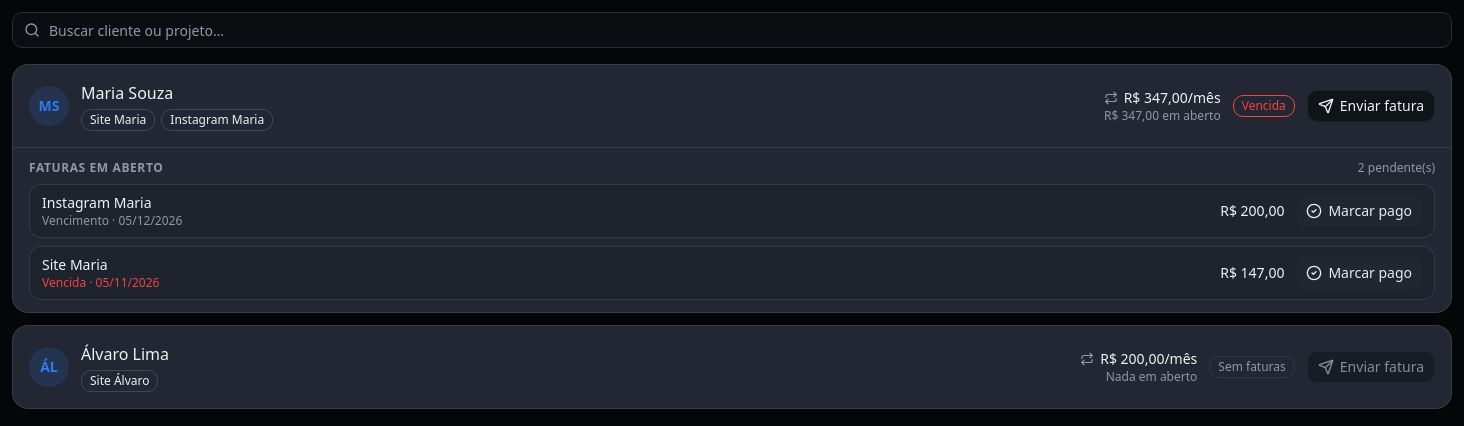
lista de clientes do Financeiro › busca por cliente ou projeto filtra a lista
Step 1. Type "alvaro" into the field with placeholder "Buscar cliente ou projeto…" → (732, 30), box [12, 12, 1452, 48]
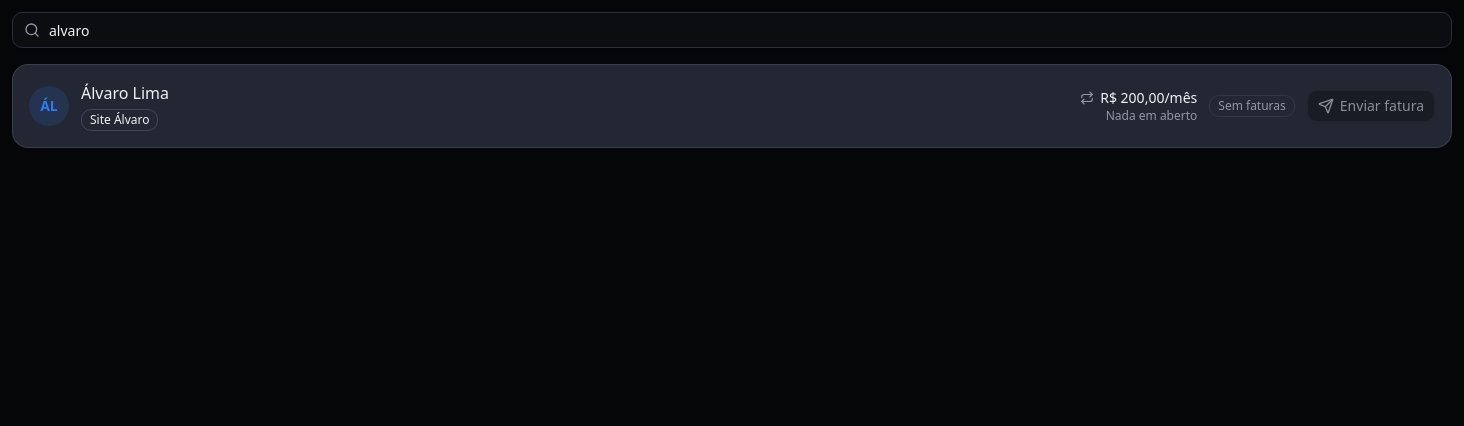
Expected: the button "Álvaro Lima" is shown, [81, 81, 169, 105]
Now the button "Maria Souza" is gone
Step 2. Replace the text in the field with placeholder "Buscar cliente ou projeto…" with "zzz" → (732, 30), box [12, 12, 1452, 48]
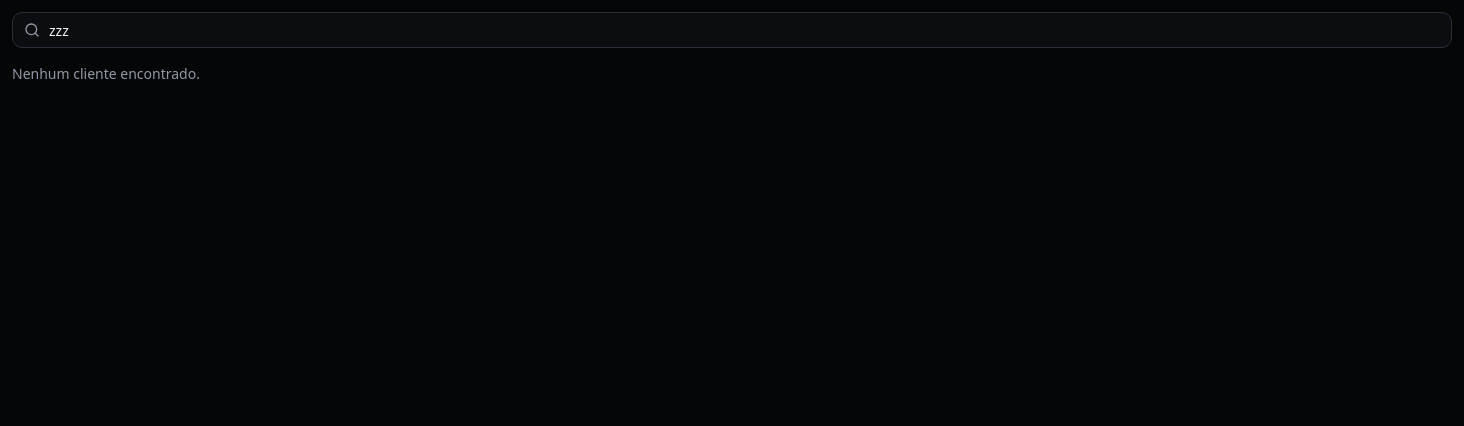
Now the text "Nenhum cliente encontrado." is shown, box [12, 64, 200, 83]
